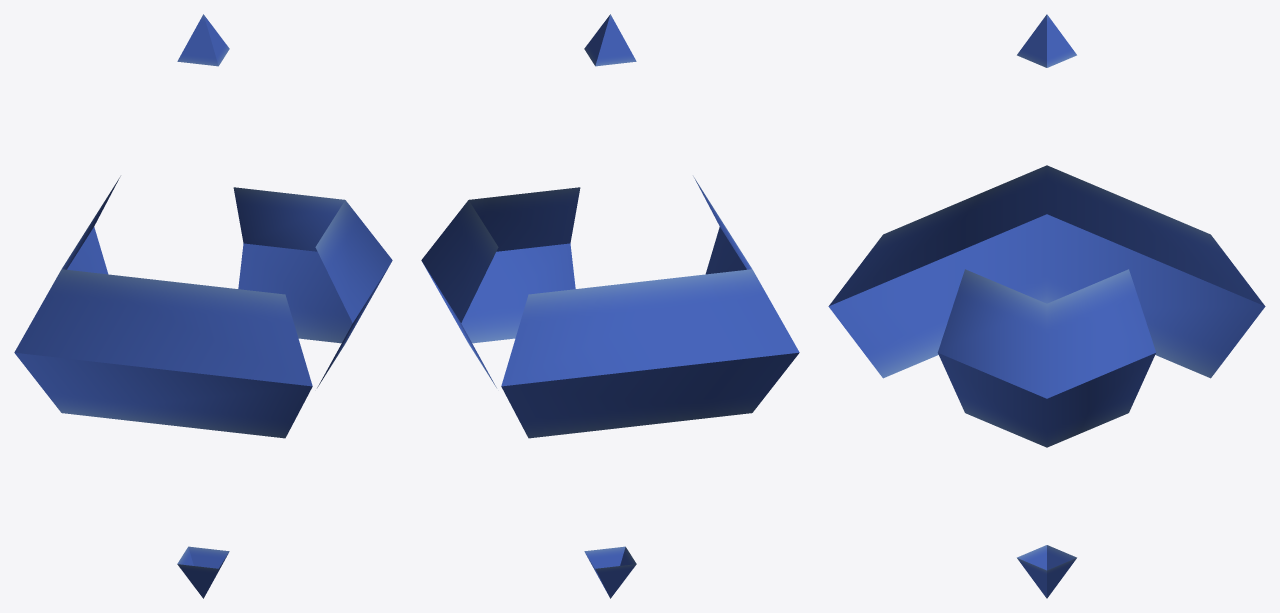
File: geo_diamond_mid.fbx
The picture shows the model from 3 angles, left to right: view 1: azimuth 30°, elevation 25°; view 2: azimuth 150°, elevation 25°; view 3: azimuth 270°, elevation 25°; orthographic projection.
Parts seen in each view (by area): view 1: geo_diamond_mid; view 2: geo_diamond_mid; view 3: geo_diamond_mid.
Part boxes in pixels (bbox=[...]): geo_diamond_mid: bbox=[14, 14, 392, 598]; geo_diamond_mid: bbox=[421, 14, 799, 598]; geo_diamond_mid: bbox=[828, 14, 1265, 598].
Size of the model in its own units: 330 by 330 by 488.
Materials: 1 (1 with a texture image).
